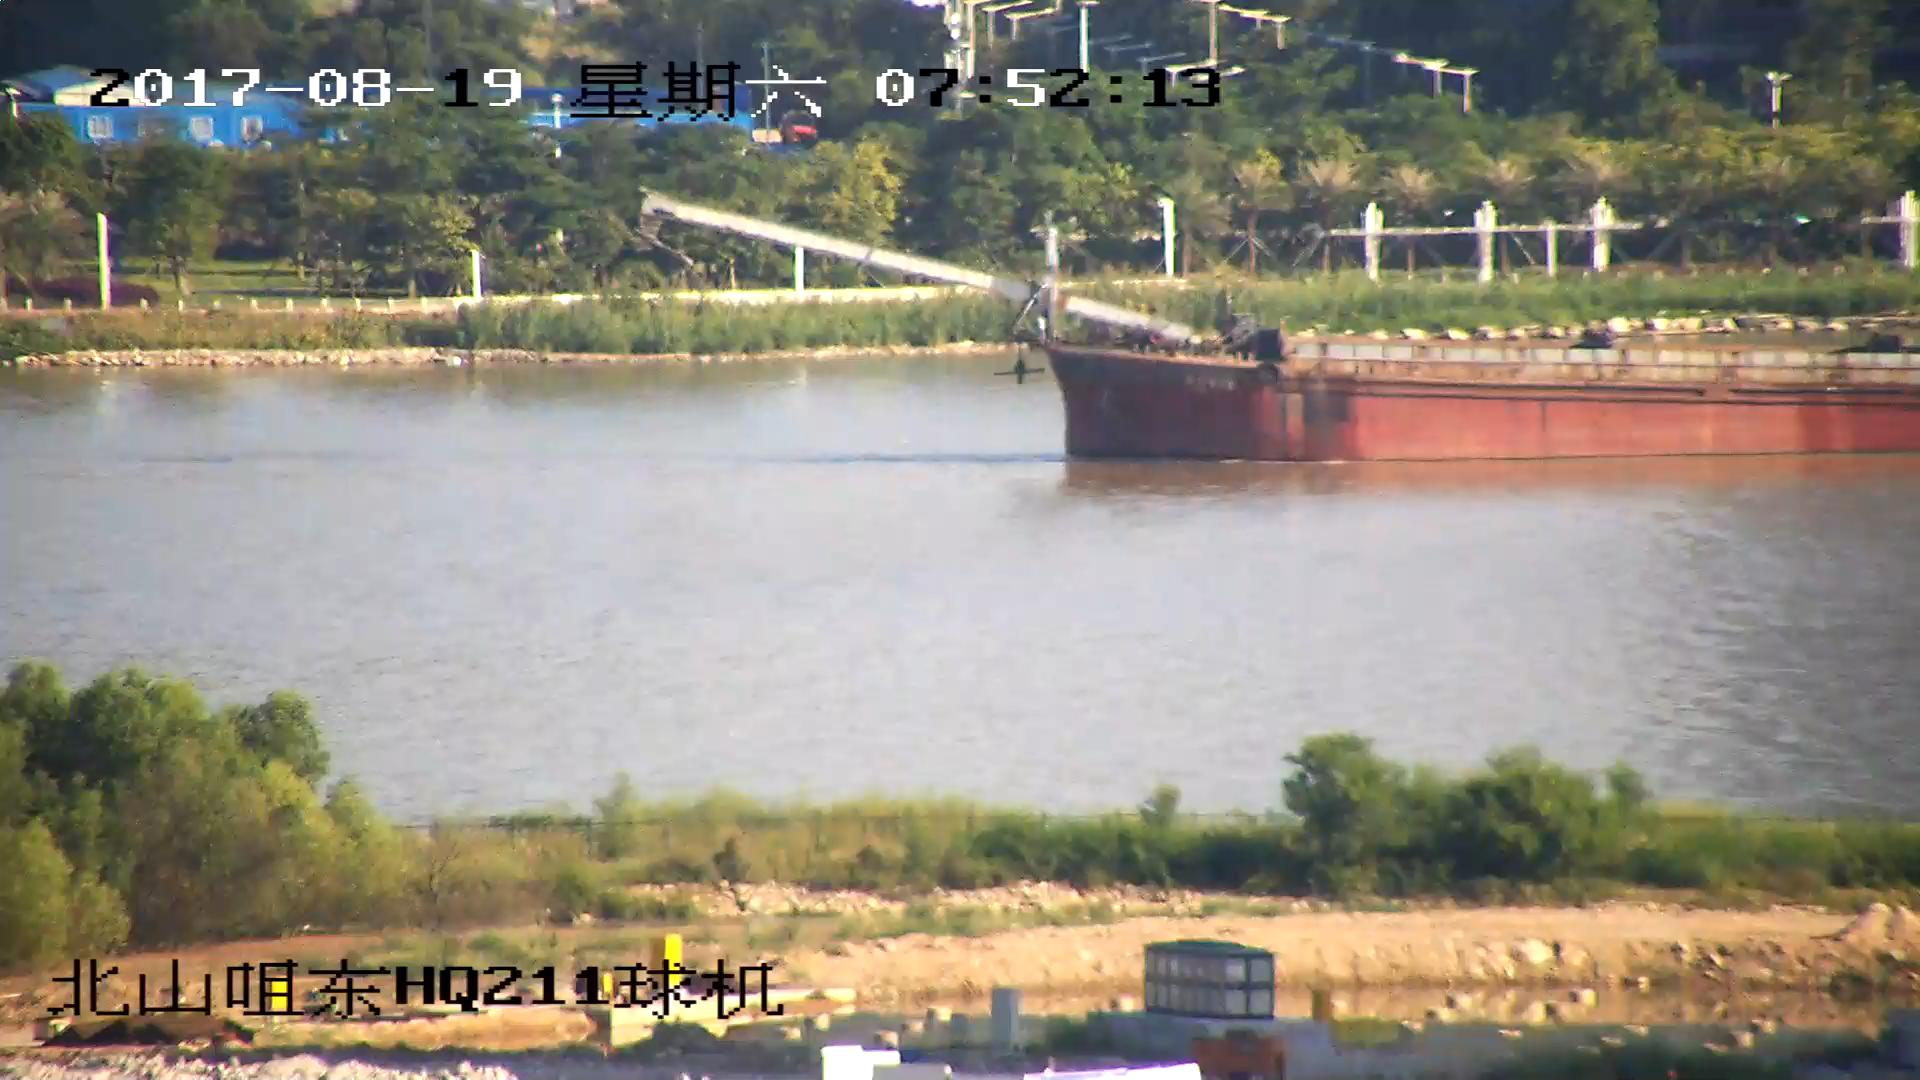bulk cargo carrier: (649, 197, 1920, 460)
